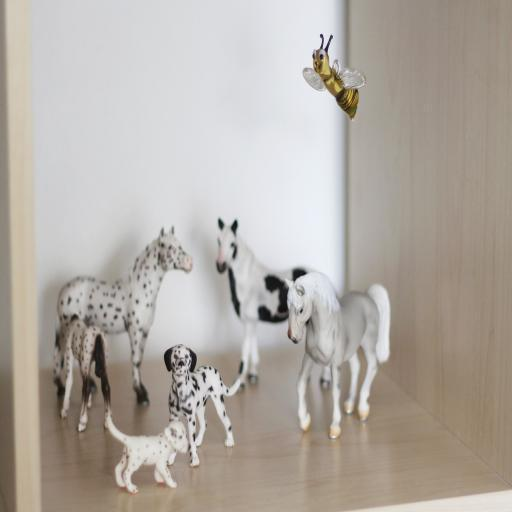horse: (57, 223, 194, 405), (214, 216, 332, 390), (283, 274, 391, 438), (56, 318, 110, 430)
